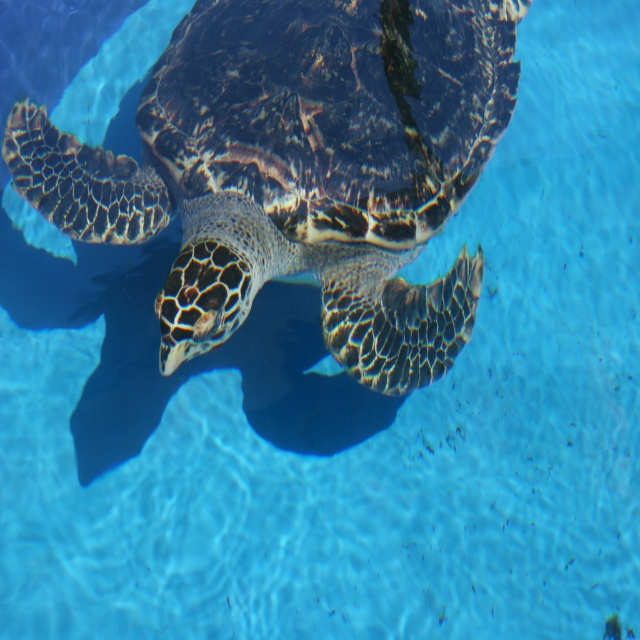Sea turtle: (2, 0, 532, 396)
